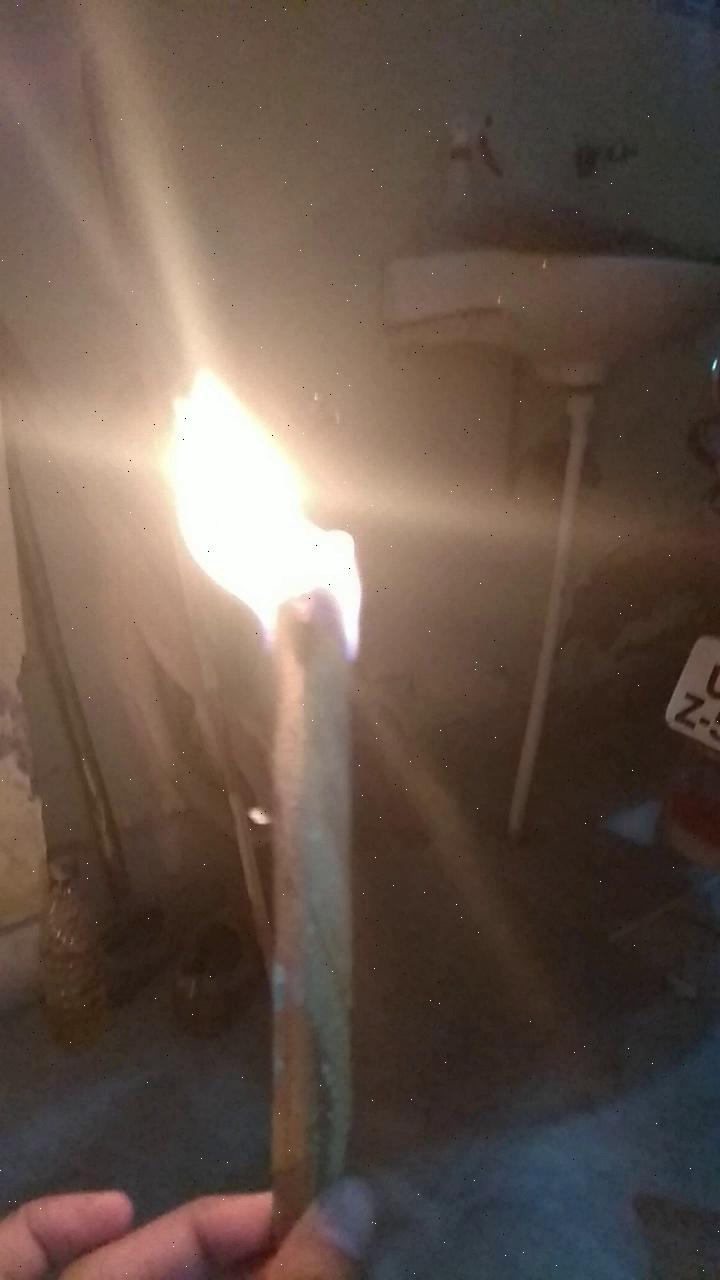fire: (130, 312, 410, 649)
